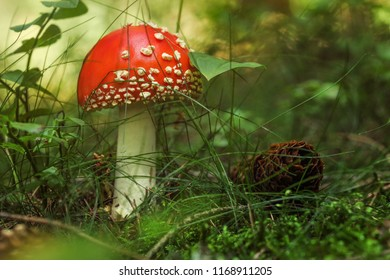Pc: (250, 142, 323, 195)
